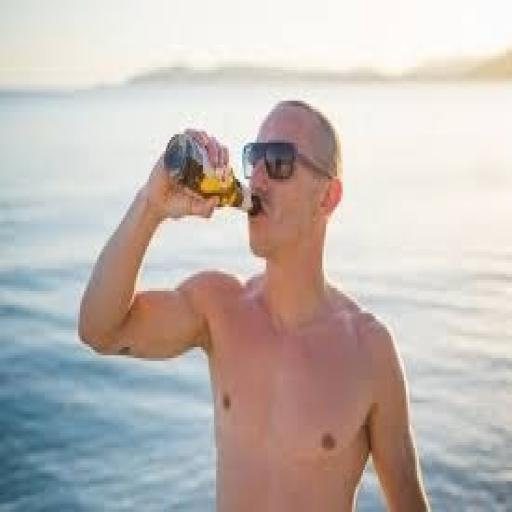drinking: (162, 132, 261, 216)
